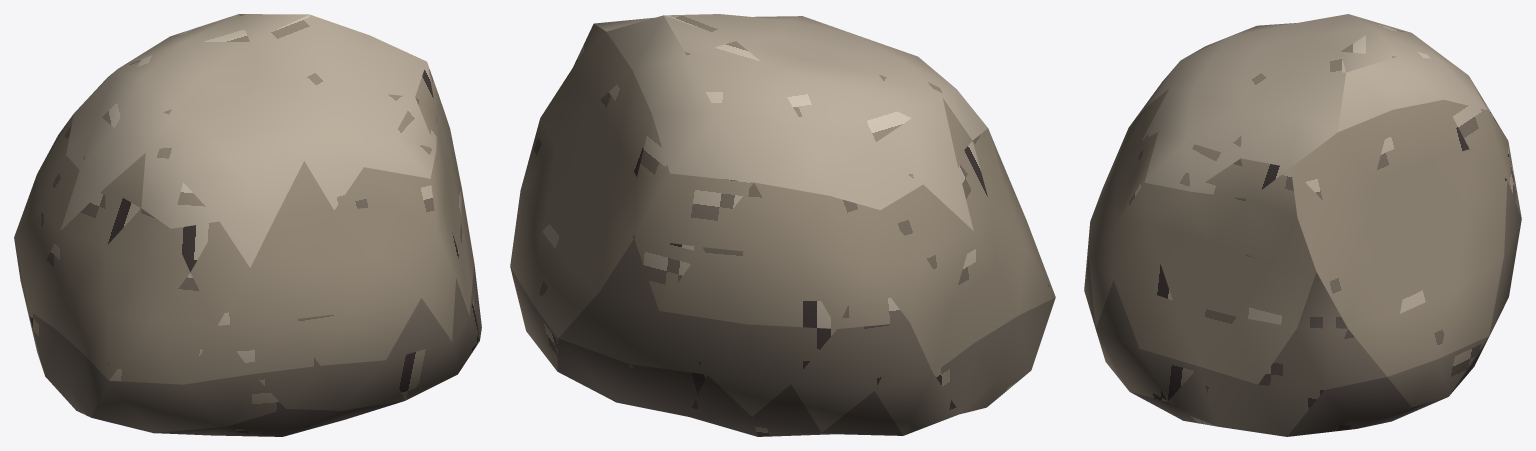
The model's file is rock_medium_a.glb.
3 views of the same model, side by side, from view 1: azimuth 30°, elevation 25°; view 2: azimuth 150°, elevation 25°; view 3: azimuth 270°, elevation 25° (orthographic). The views are drawn at different scales.
Visible parts, largest first — view 1: rock_medium_a; view 2: rock_medium_a; view 3: rock_medium_a.
Boxes of the visible parts, x1,y1,x2,y2 form: rock_medium_a: (14,14,481,436); rock_medium_a: (510,14,1055,436); rock_medium_a: (1084,14,1521,436).
Size of the model in its own units: 1.19 by 0.85 by 1.06.
Materials: 1 (1 with a texture image).
